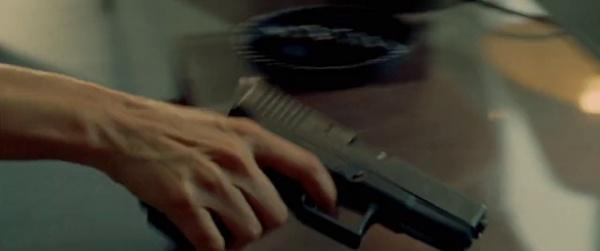Gun: (225, 73, 487, 251)
